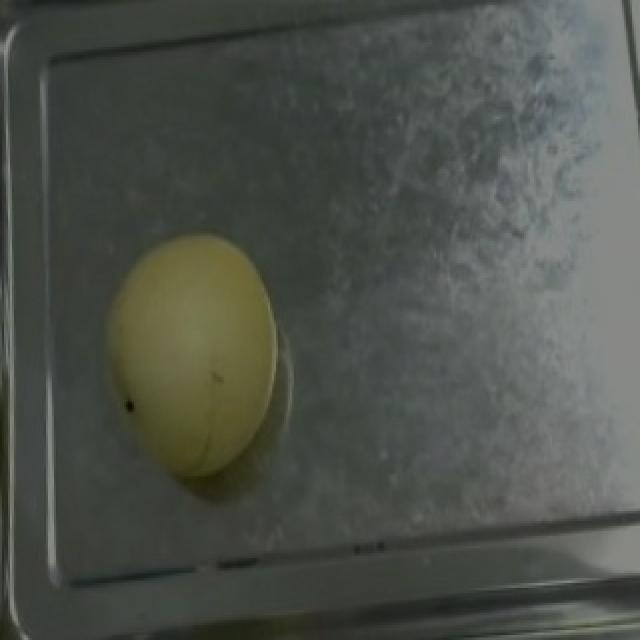Fruit: (88, 213, 288, 491)
